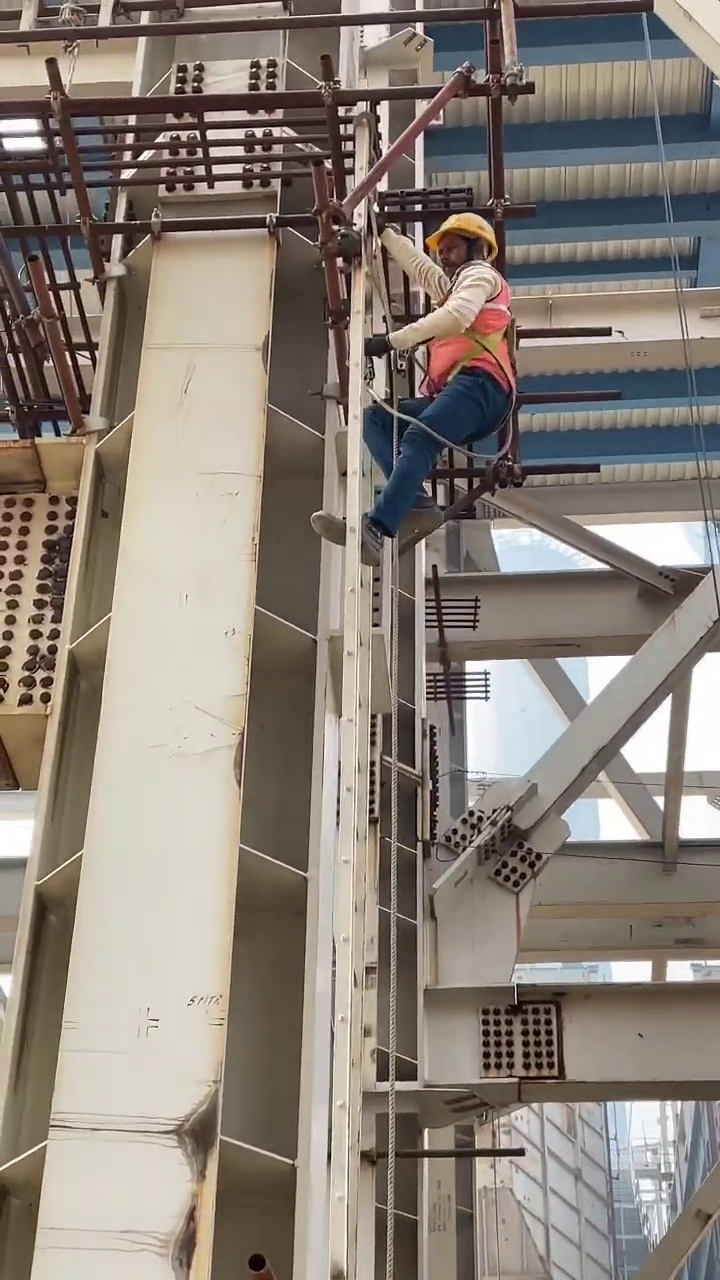Helmet: (429, 209, 500, 246)
Person: (306, 209, 524, 564)
Safety_Harness: (406, 263, 523, 462)
Safety_shoes: (311, 507, 384, 565), (403, 496, 445, 532)
